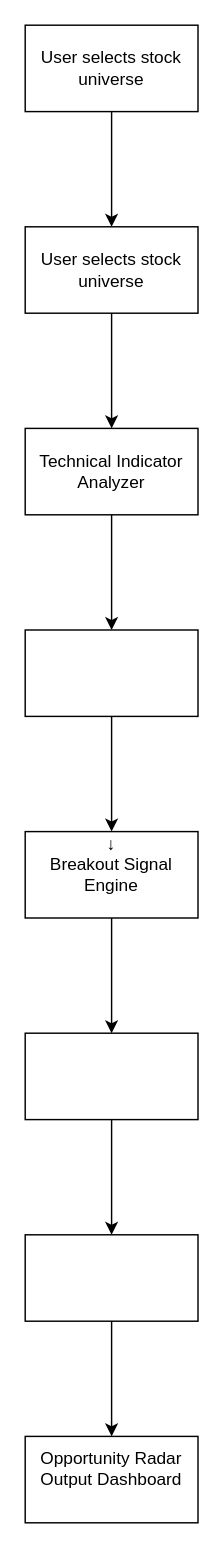
This 223x1557 diagram has some shape labels left out. The shapes that lost their labels are listed below. From the top down, each one's centre as x and y in pixels, then its label:
At (111,672): "Support & Resistance Detector".
At (111,1076): "Volume Spike Analyzer".
At (111,1277): "AI Explaination Engine".
